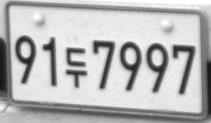1: (40, 36, 63, 87)
7: (172, 43, 196, 95), (92, 40, 115, 89)
9: (145, 42, 169, 93), (119, 40, 142, 91), (14, 34, 37, 84)
두: (65, 46, 87, 88)
